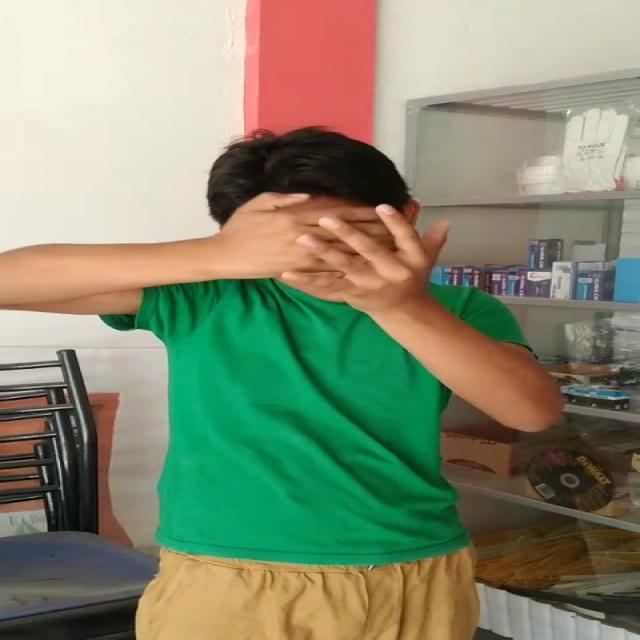7_mano_rostro: (194, 192, 451, 342)
